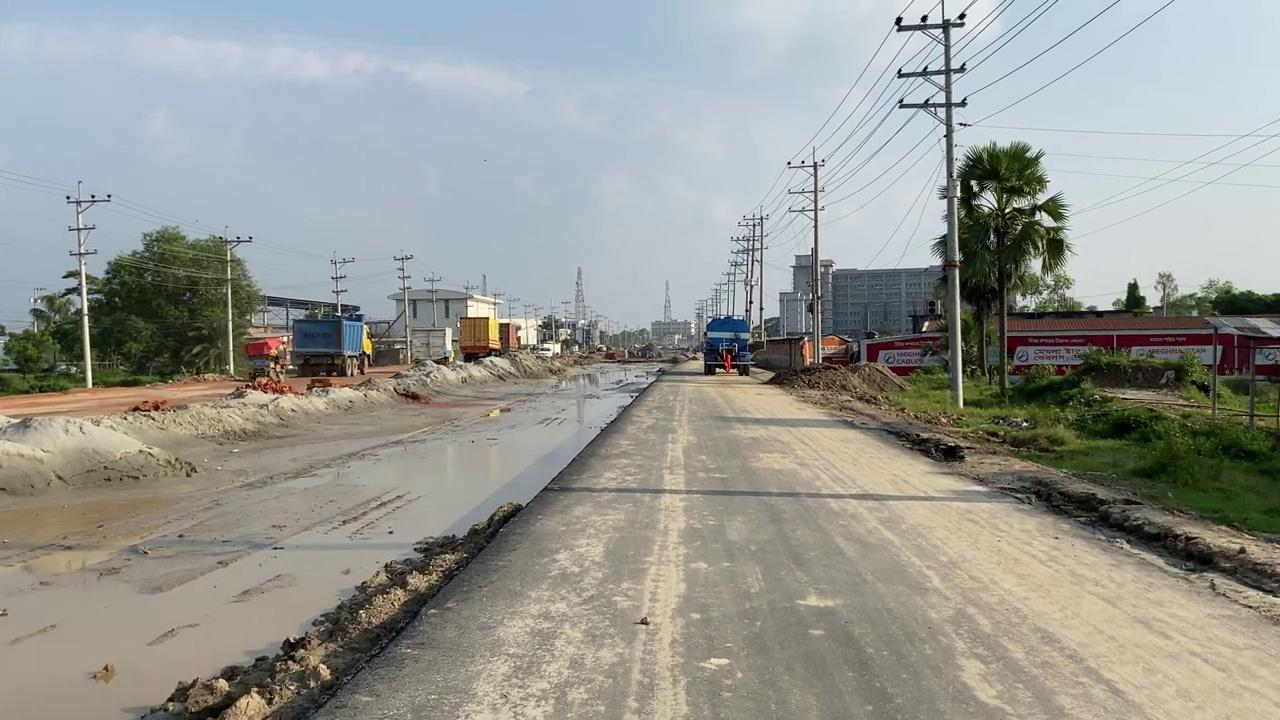Garbage-bin: (702, 315, 751, 375)
Obstacle: (289, 313, 366, 376), (750, 334, 806, 371), (457, 315, 501, 359)
Pole: (893, 1, 969, 408), (65, 179, 110, 388), (786, 146, 825, 363)
Sidewalk: (1, 358, 661, 718)
Traffic-sign: (929, 137, 1076, 395)
Tree: (431, 315, 518, 366), (749, 332, 857, 371), (243, 334, 289, 382), (801, 333, 857, 367)
